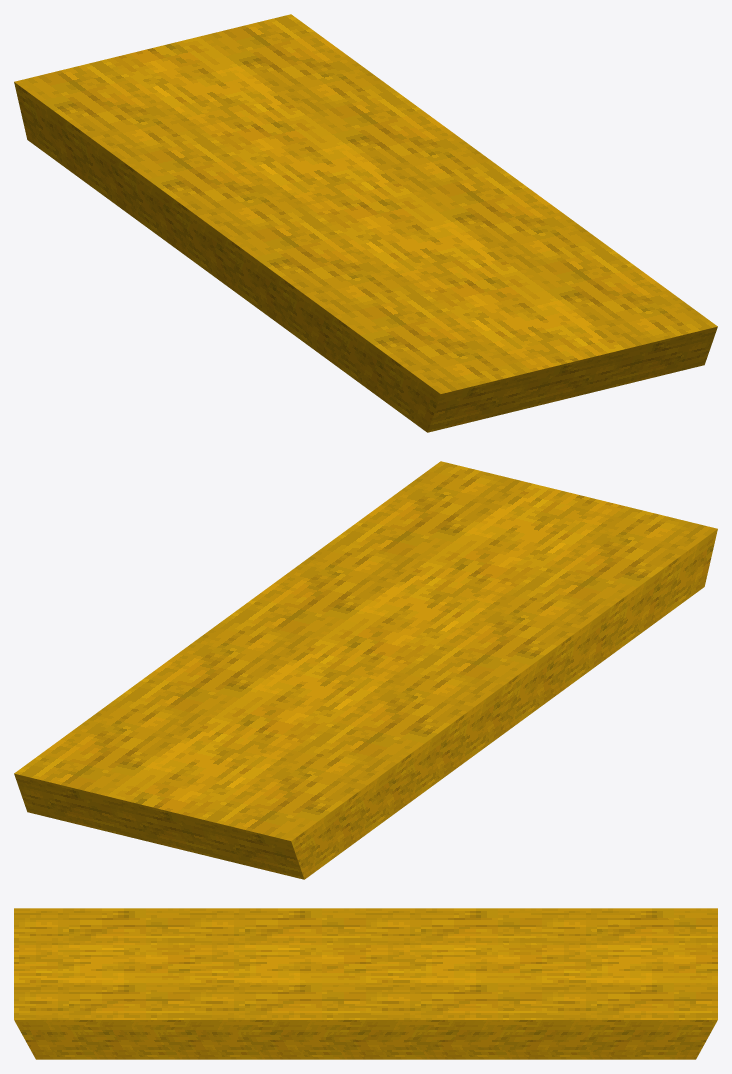
File: km3_shiso.glb
The picture shows the model from 3 angles, top to bottom: view 1: azimuth 30°, elevation 25°; view 2: azimuth 150°, elevation 25°; view 3: azimuth 270°, elevation 25°; orthographic projection. The views are drawn at different scales.
Visible parts, largest first — view 1: km3_shiso; view 2: km3_shiso; view 3: km3_shiso.
Boxes of the visible parts, x1,y1,x2,y2 form: km3_shiso: (14, 14, 717, 432); km3_shiso: (14, 461, 717, 879); km3_shiso: (14, 908, 717, 1059).
Bounding box in the file's own units: 75 × 12.5 × 200.
Materials: 1 (1 with a texture image).
